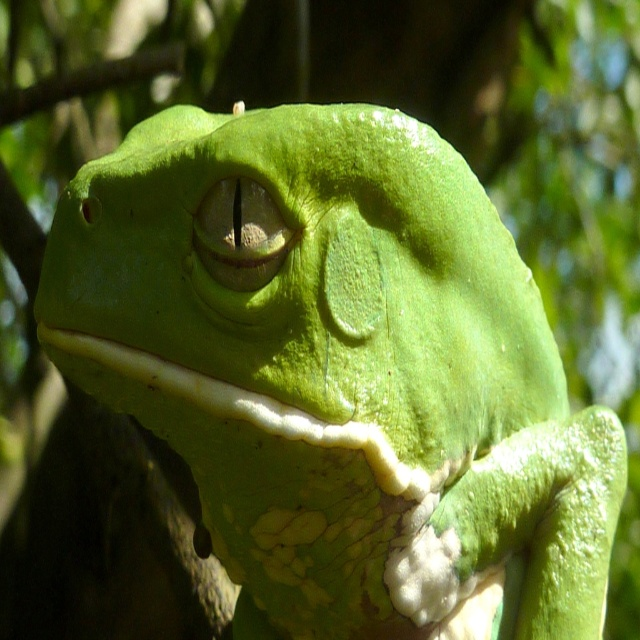Frog: (34, 98, 627, 639)
